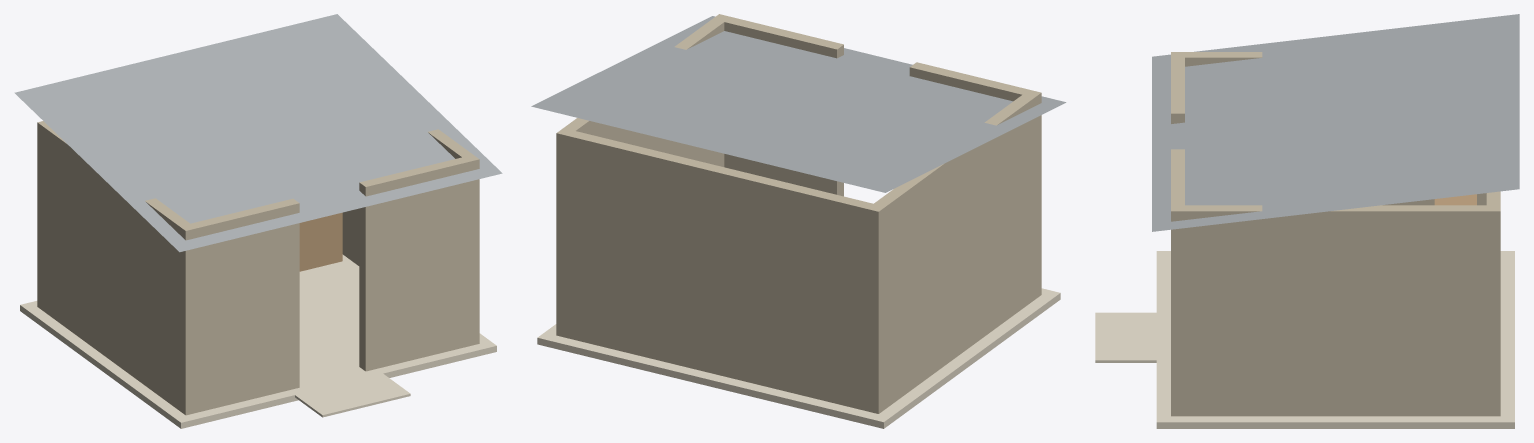
File: beekeeping-program.lod2.glb
3 views of the same model, side by side, from view 1: azimuth 30°, elevation 25°; view 2: azimuth 150°, elevation 25°; view 3: azimuth 270°, elevation 25° (orthographic). The views are drawn at different scales.
Bounding box in the file's own units: 4.4 × 2.83 × 4.5.
